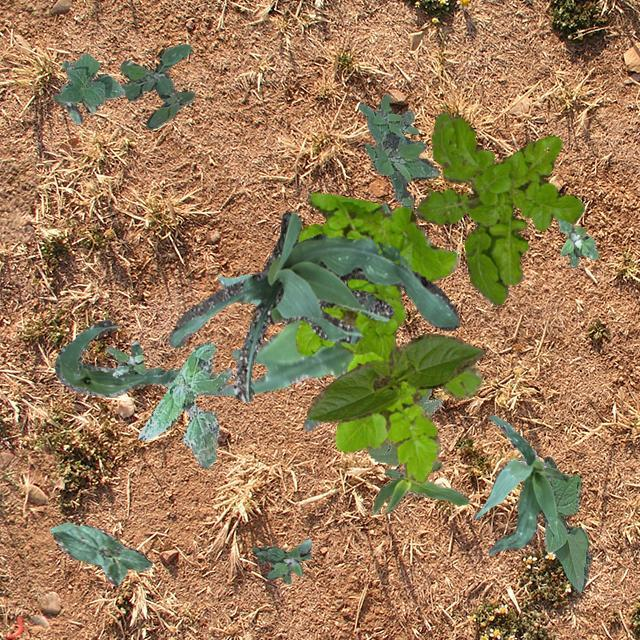crop: (168, 210, 460, 400), (162, 274, 354, 429), (306, 332, 484, 422), (472, 414, 568, 554), (54, 318, 180, 396), (542, 456, 592, 592), (48, 520, 150, 584), (366, 388, 442, 464), (370, 461, 468, 514), (58, 52, 124, 104)
weed: (294, 192, 482, 482), (414, 110, 584, 304), (138, 340, 232, 468), (358, 94, 438, 208), (118, 44, 194, 128), (50, 59, 96, 122), (250, 538, 310, 582), (558, 218, 598, 266), (106, 341, 146, 376), (380, 202, 390, 212)
